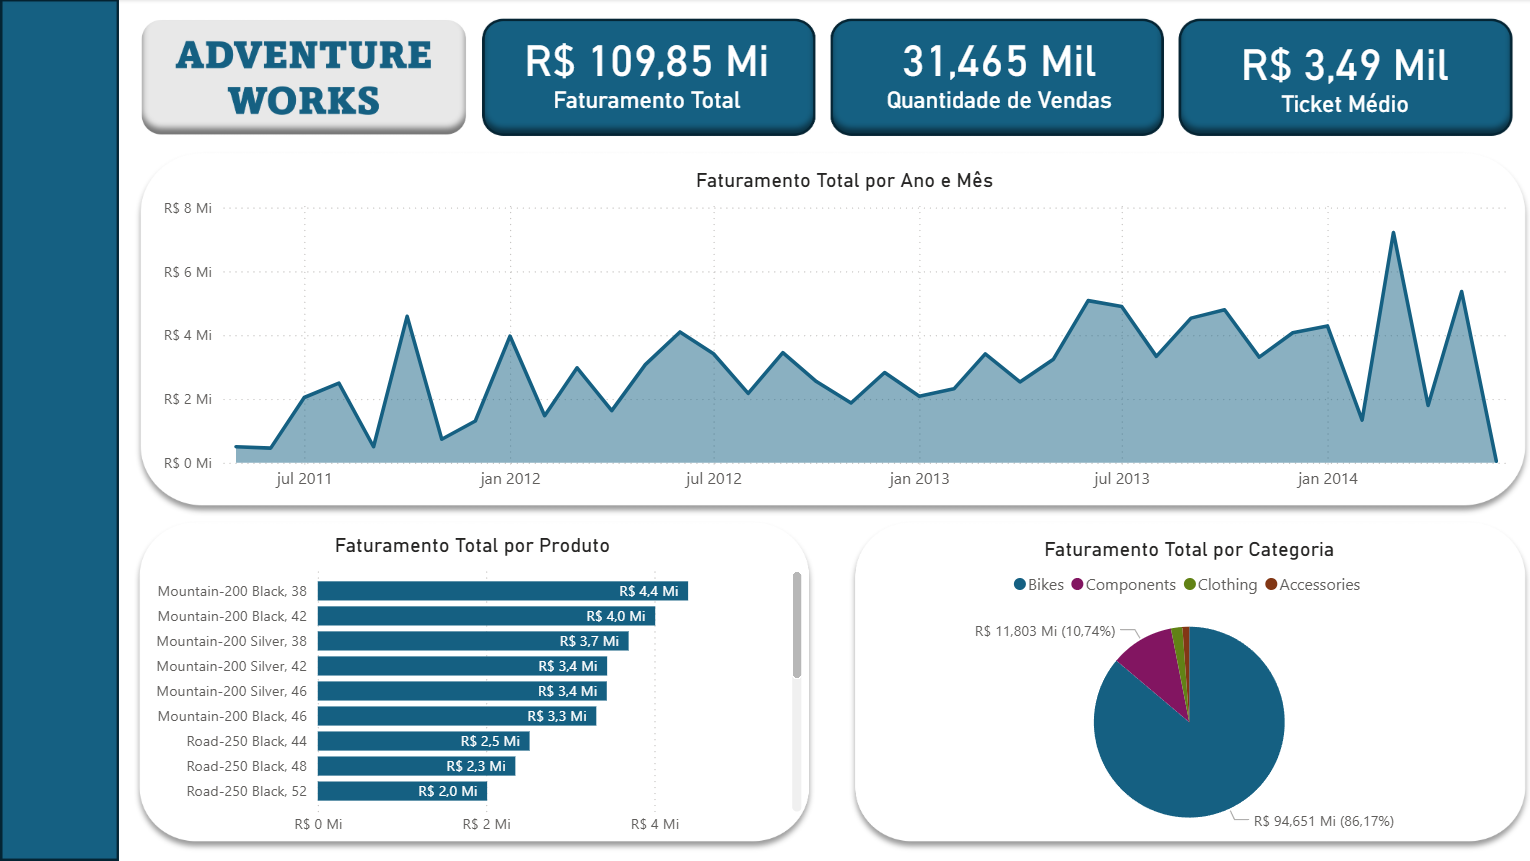

Layout of this report page (visuals, bound fields, positions):
{"tool":"powerbi","page":{"name":"Página 1","canvas":[1280,720],"ordinal":0},"visuals":[{"type":"cardVisual","fields":{"Data":["F_Venda.Faturamento Total"]},"box":[396.8,0,287.9,124.5],"z":0},{"type":"cardVisual","fields":{"Data":["F_Venda.Quantidade de Vendas"]},"box":[694.5,0,281.1,124.5],"z":1000},{"type":"cardVisual","fields":{"Data":["F_Venda.Ticket Médio"]},"box":[984.3,8.8,279.1,115.7],"z":2000},{"type":"lineChart","fields":{"Y":["F_Venda.Faturamento Total"],"Category":["D_Calendario.data.Variation.Hierarquia de datas.Ano","D_Calendario.data.Variation.Hierarquia de datas.Mês"]},"box":[131.3,141,1148.7,277.2],"z":3000},{"type":"clusteredBarChart","title":"Faturamento Total por Produto","fields":{"Y":["F_Venda.Faturamento Total"],"Category":["D_Produto.nome"]},"box":[114.8,446.4,560.2,261.6],"z":4000},{"type":"pieChart","title":"Faturamento Total por Categoria","fields":{"Category":["D_Produto.categoria"],"Y":["F_Venda.Faturamento Total"]},"box":[711,449.4,565.1,261.6],"z":5000}]}

Visuals, with their boxes in screenshot pixels (x1, y1, x2, y2), scaled from the page's 1280x720 canvas onto the 1530x861 screenshot:
cardVisual - F_Venda.Faturamento Total: 474 0 818 149
cardVisual - F_Venda.Quantidade de Vendas: 830 0 1166 149
cardVisual - F_Venda.Ticket Médio: 1177 11 1510 149
lineChart - F_Venda.Faturamento Total x D_Calendario.data.Variation.Hierarquia de datas.Ano: 157 169 1529 500
"Faturamento Total por Produto" clusteredBarChart: 137 534 807 847
"Faturamento Total por Categoria" pieChart: 850 537 1525 850
